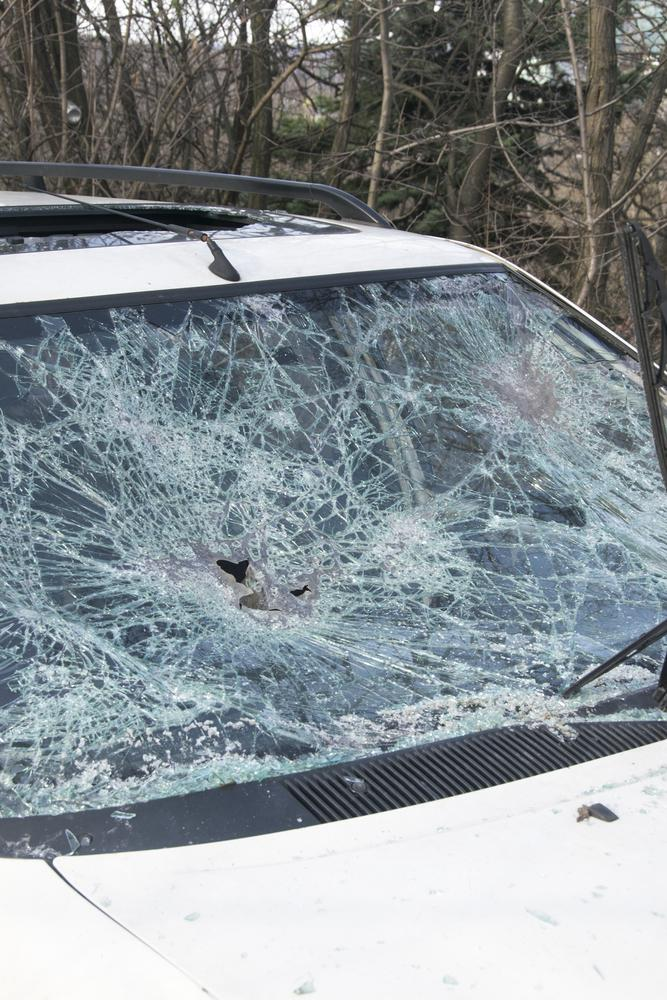glass shatter: (0, 270, 667, 820)
